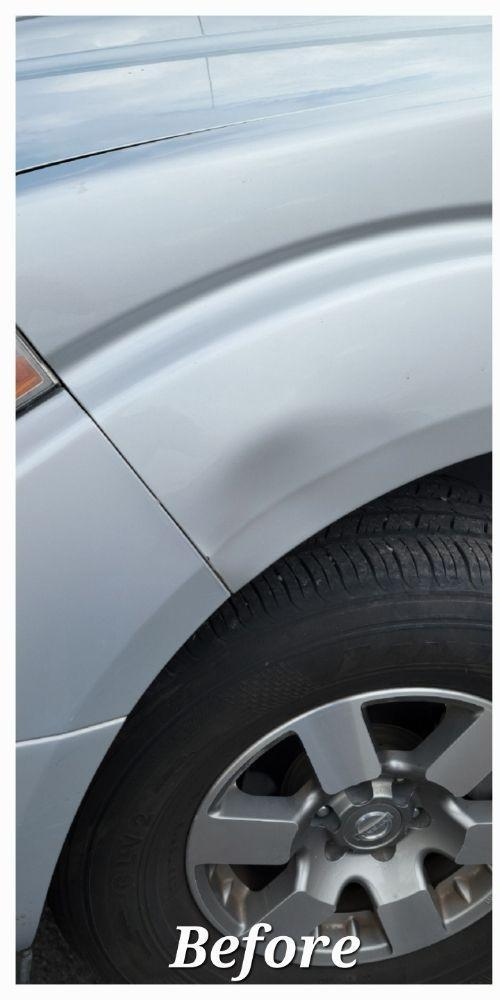dent: (153, 391, 458, 549)
